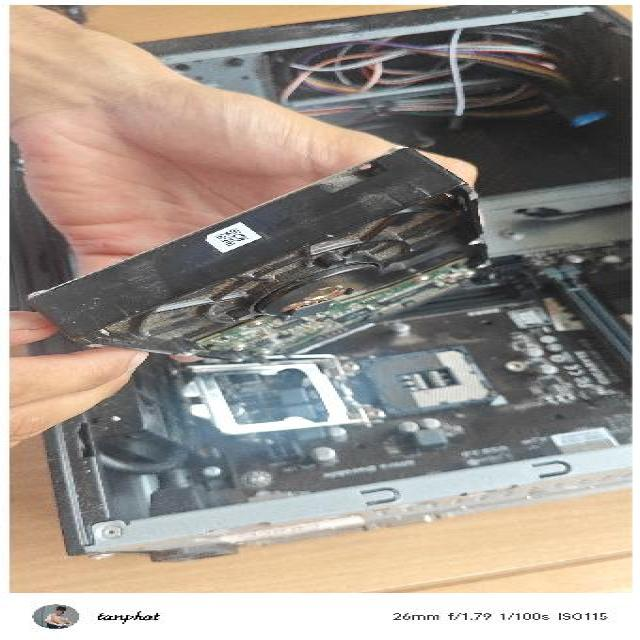DISK: (22, 144, 500, 367)
